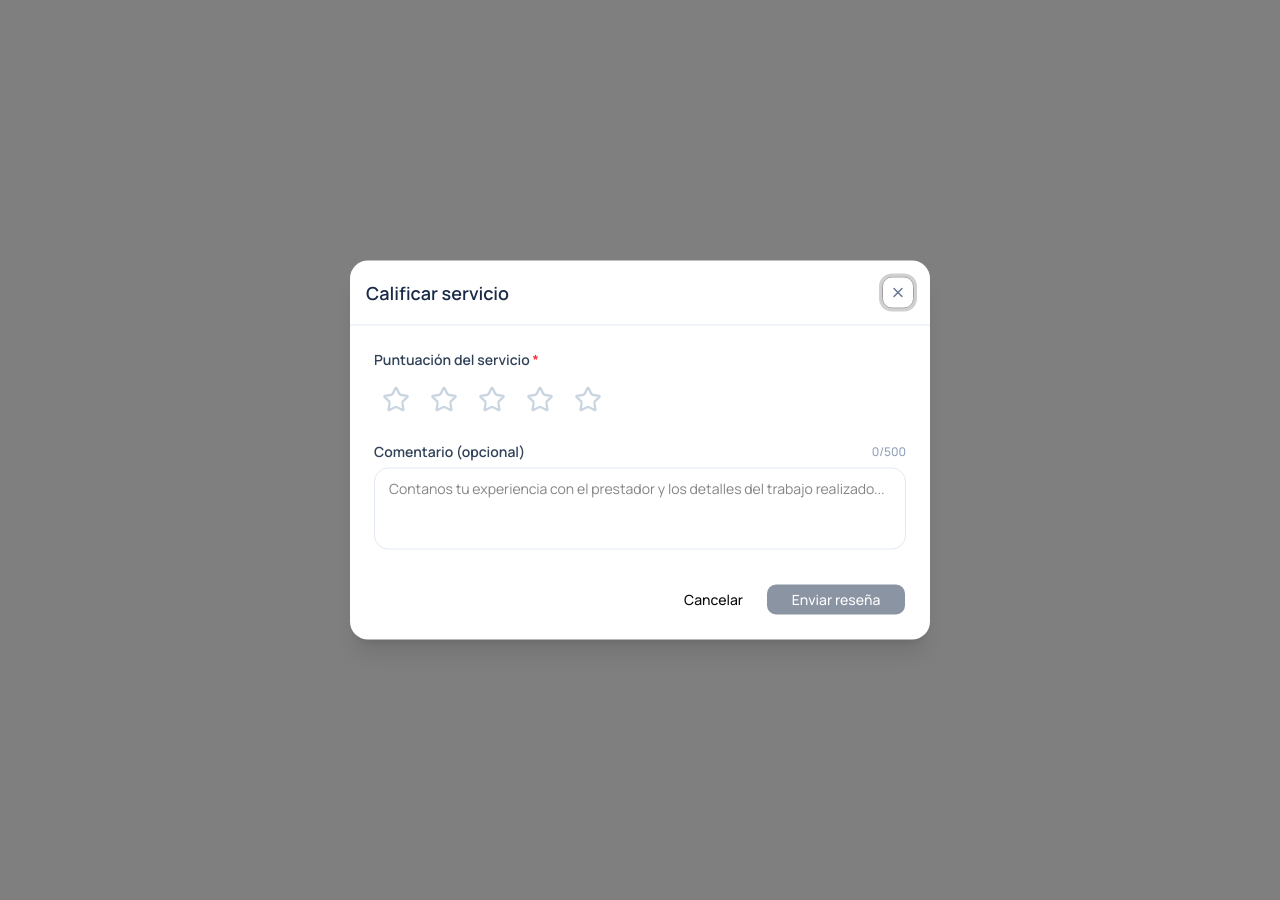
Test: ReviewWorkOrderModal › should show error message when submission returns 409 conflict
The image size is (1280, 900).
Click the radio button named "4 estrellas" at coordinates (540, 400), box 518,378 -> 562,422
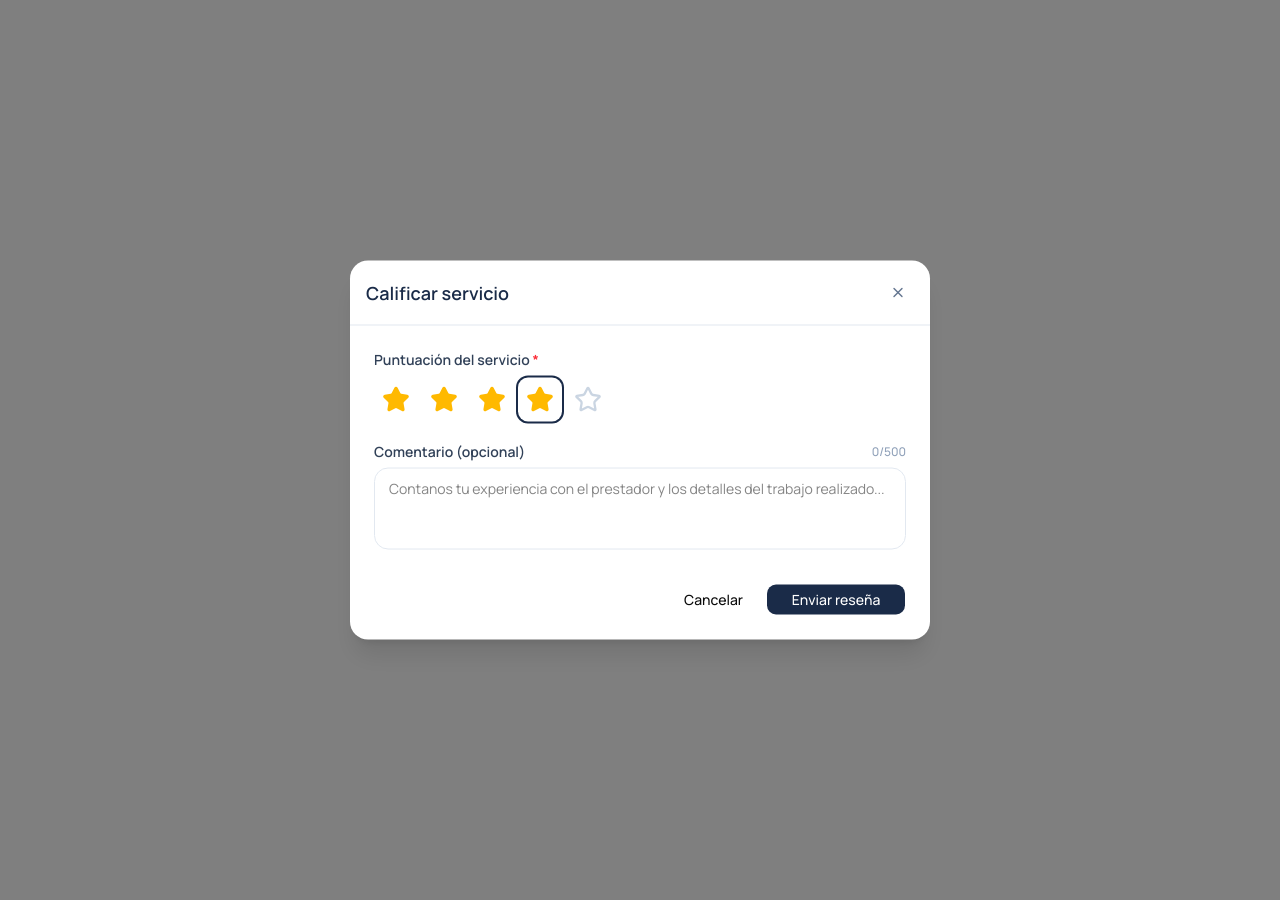
Click the button with test id "submit-review-button" at coordinates (836, 600), box 766,584 -> 906,616
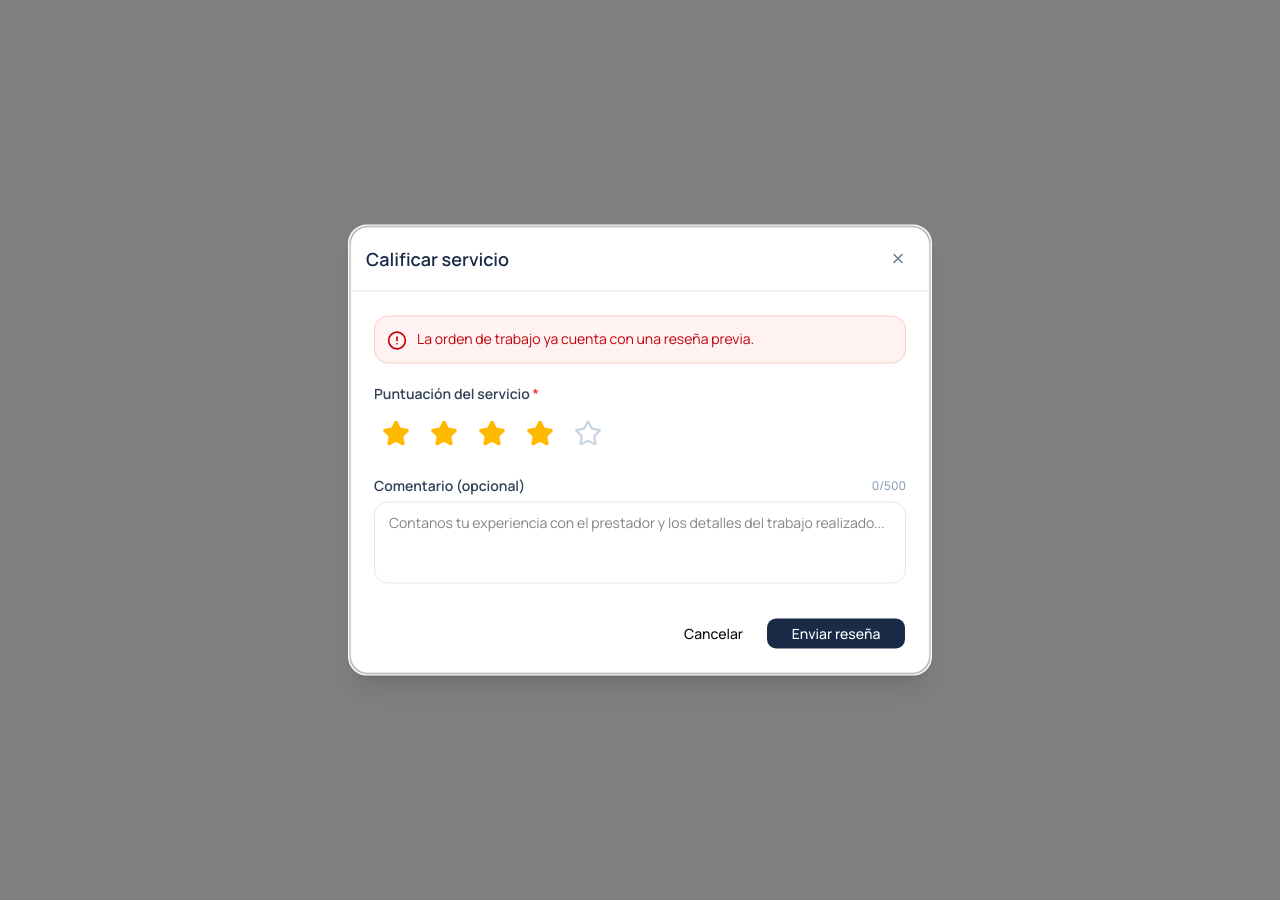
Expected: the text "La orden de trabajo ya cuenta con una reseña previa." is shown, 417,328 -> 754,348
